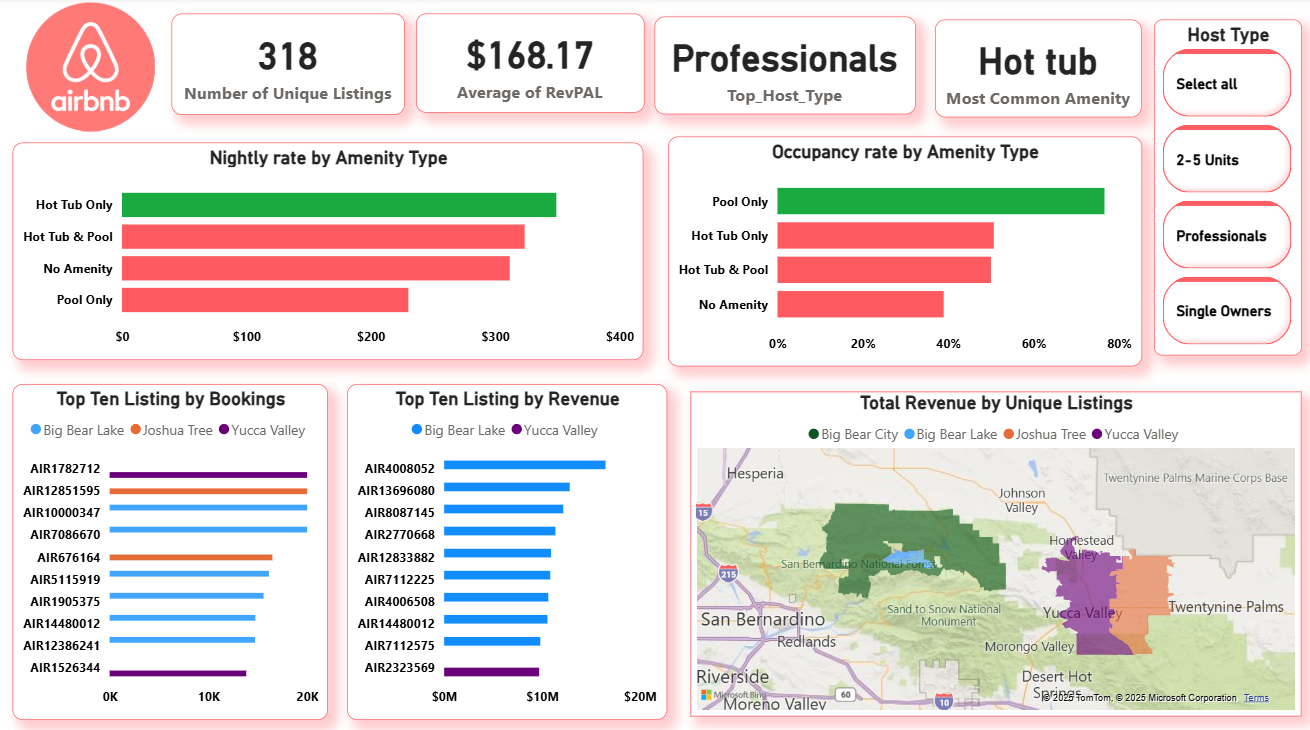

What the dashboard file says about the page in this screenshot:
{"tool":"powerbi","page":{"name":"Product listings","canvas":[1280,720],"ordinal":3},"visuals":[{"type":"clusteredBarChart","title":"Top Ten Listing by Revenue","fields":{"Category":["Final_552 Codar_final_cleaned_d.unified_id"],"Y":["Sum(Final_552 Codar_final_cleaned_d.revenue)"],"Series":["Final_552 Codar_final_cleaned_d.city"]},"box":[339.2,377,311.9,327.1],"z":0},{"type":"clusteredBarChart","title":"Top Ten Listing by Bookings","fields":{"Series":["Final_552 Codar_final_cleaned_d.city"],"Y":["Sum(Final_552 Codar_final_cleaned_d.length_of_stay)"],"Category":["Final_552 Codar_final_cleaned_d.unified_id"]},"box":[13.6,377,307.4,327.1],"z":1000},{"type":"card","fields":{"Values":["Count(Final_552 Codar_final_cleaned_d.unified_id)"]},"box":[168.1,16.7,227.1,98.4],"z":2000},{"type":"image","box":[13.6,0,151.4,136.3],"z":3000},{"type":"card","fields":{"Values":["Avg(Final_552 Codar_final_cleaned_d.RevPAL)"]},"box":[405.8,16.7,222.6,96.9],"z":4000},{"type":"card","fields":{"Values":["Final_552 Codar_final_cleaned_d.Most_common_amenity"]},"box":[911.6,21.2,201.4,95.4],"z":5000},{"type":"clusteredBarChart","title":"Occupancy rate by Amenity Type","fields":{"Category":["Final_552 Codar_final_cleaned_d.Amenity_Type"],"Y":["Final_552 Codar_final_cleaned_d.New occupancy rate"]},"box":[651.1,136.3,461.8,224.1],"z":6000},{"type":"clusteredBarChart","title":"Nightly rate  by Amenity Type","fields":{"Category":["Final_552 Codar_final_cleaned_d.Amenity_Type"],"Y":["Final_552 Codar_final_cleaned_d.Avg nightly rate"]},"box":[13.6,142.3,614.8,212],"z":7000},{"type":"card","fields":{"Values":["Final_552 Codar_final_cleaned_d.Top_Host_Type"]},"box":[639,19.7,254.4,95.4],"z":8000},{"type":"advancedSlicerVisual","fields":{"Values":["Final_552 Codar_final_cleaned_d.host_type"]},"box":[1125.1,21.2,143.8,327.1],"z":9000},{"type":"filledMap","title":"Total Revenue by Unique Listings","fields":{"Series":["Final_552 Codar_final_cleaned_d.city"],"Category":["Final_552 Codar_final_cleaned_d.zipcode"]},"box":[673.8,384.6,595.1,316.5],"z":10000}]}

Visuals, with their boxes in screenshot pixels (x1, y1, x2, y2), scaled from the page's 1280x720 canvas onto the 1310x730 screenshot:
"Top Ten Listing by Revenue" clusteredBarChart: 347,382,666,714
"Top Ten Listing by Bookings" clusteredBarChart: 14,382,329,714
card - Count(Final_552 Codar_final_cleaned_d.unified_id): 172,17,404,117
image: 14,0,169,138
card - Avg(Final_552 Codar_final_cleaned_d.RevPAL): 415,17,643,115
card - Final_552 Codar_final_cleaned_d.Most_common_amenity: 933,21,1139,118
"Occupancy rate by Amenity Type" clusteredBarChart: 666,138,1139,365
"Nightly rate  by Amenity Type" clusteredBarChart: 14,144,643,359
card - Final_552 Codar_final_cleaned_d.Top_Host_Type: 654,20,914,117
advancedSlicerVisual - Final_552 Codar_final_cleaned_d.host_type: 1151,21,1299,353
"Total Revenue by Unique Listings" filledMap: 690,390,1299,711
